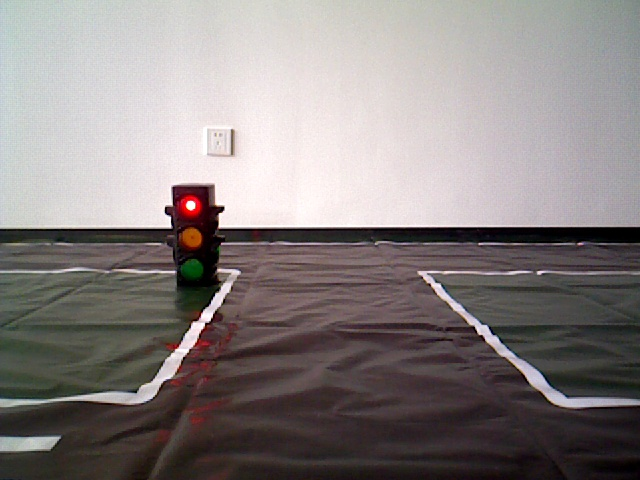red: (174, 182, 217, 286)
